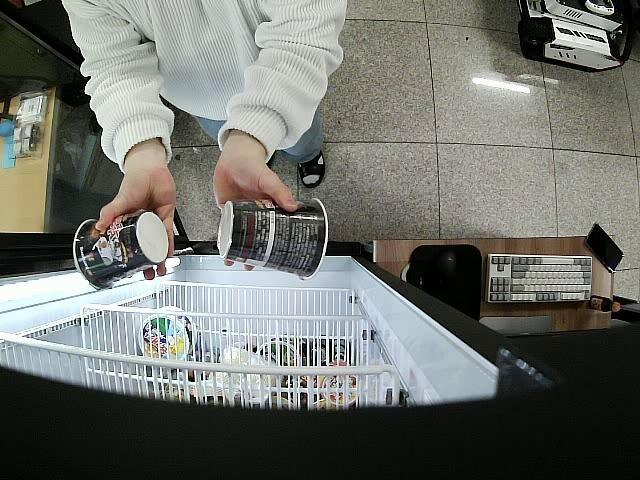08_buldak_S: (217, 197, 329, 282), (71, 211, 170, 292)
